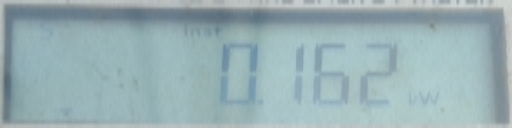0: (219, 35, 260, 109)
1: (286, 40, 306, 108)
2: (358, 37, 404, 108)
6: (311, 34, 356, 112)
d: (256, 95, 270, 108)
